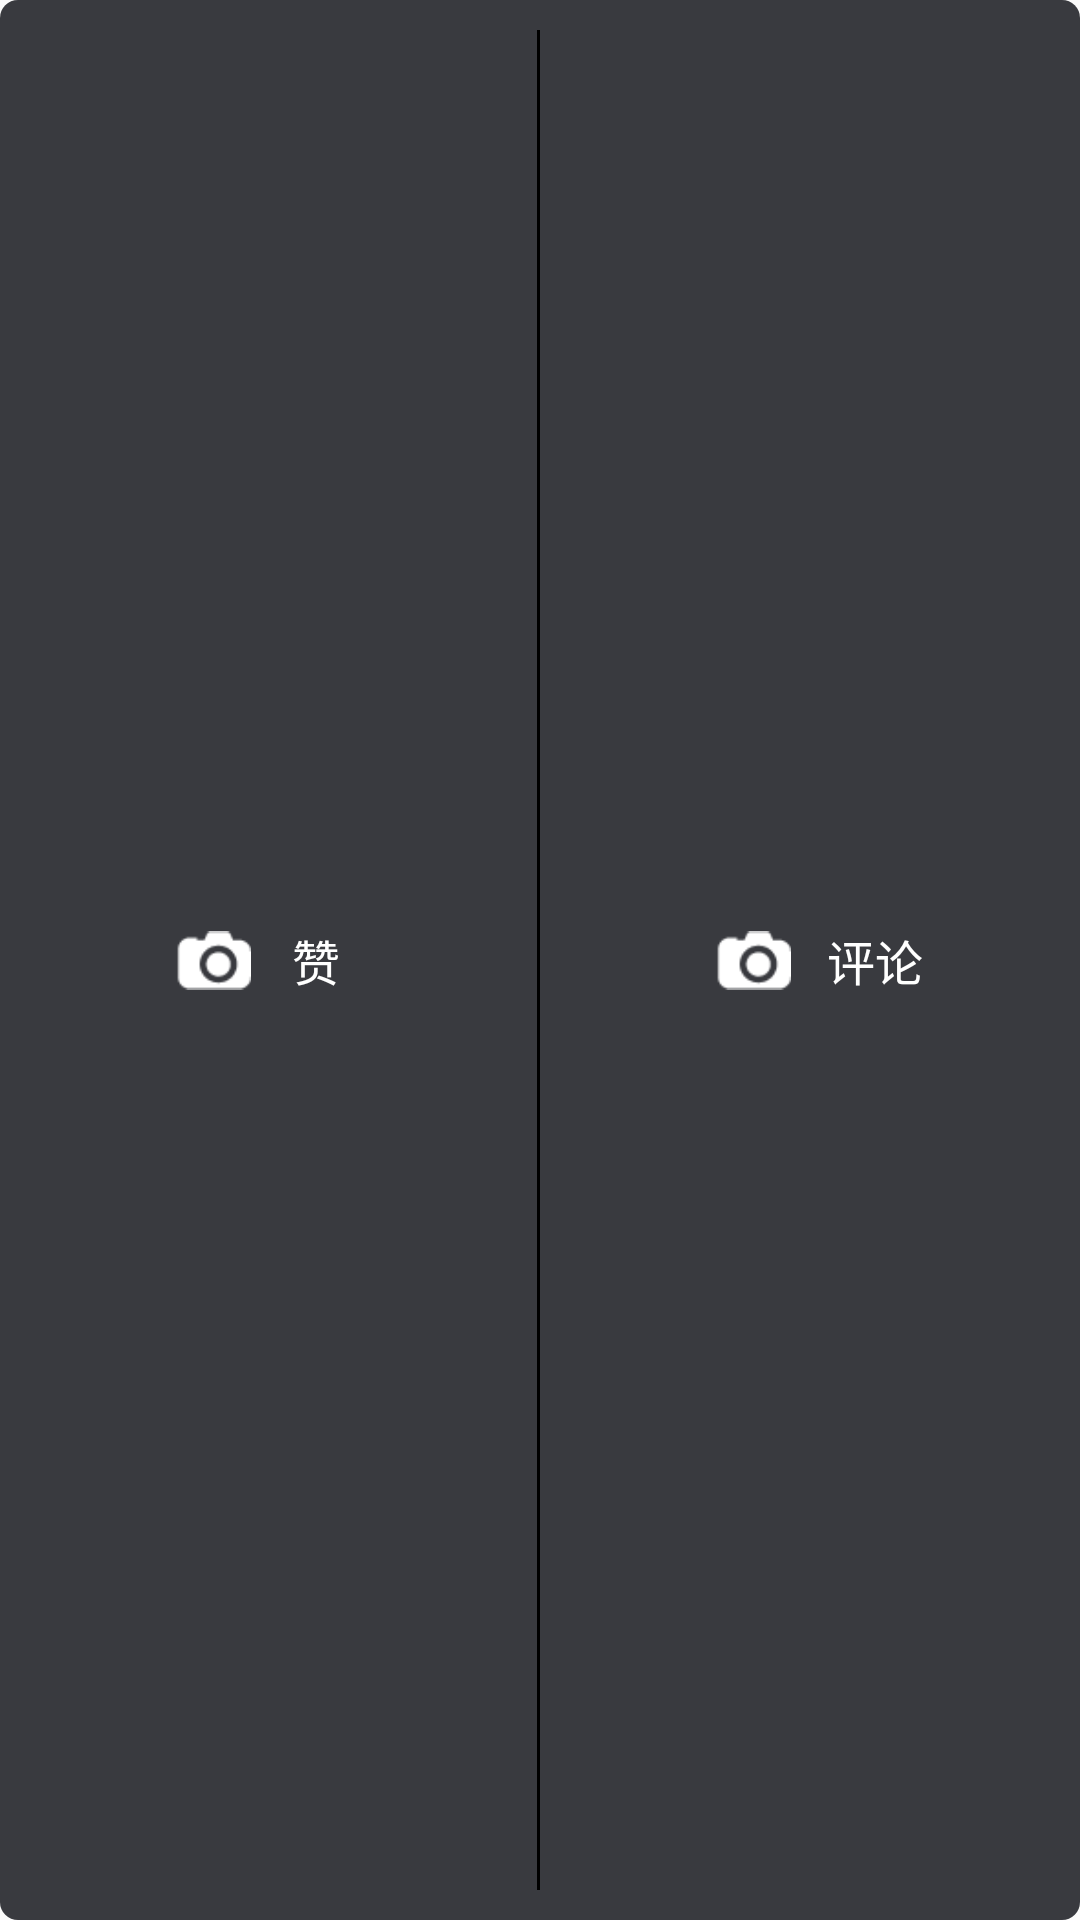

Named icons in this screenshot (1080x1920) and their centers, point (x, y):
camera: point (214, 960), point (754, 960)
